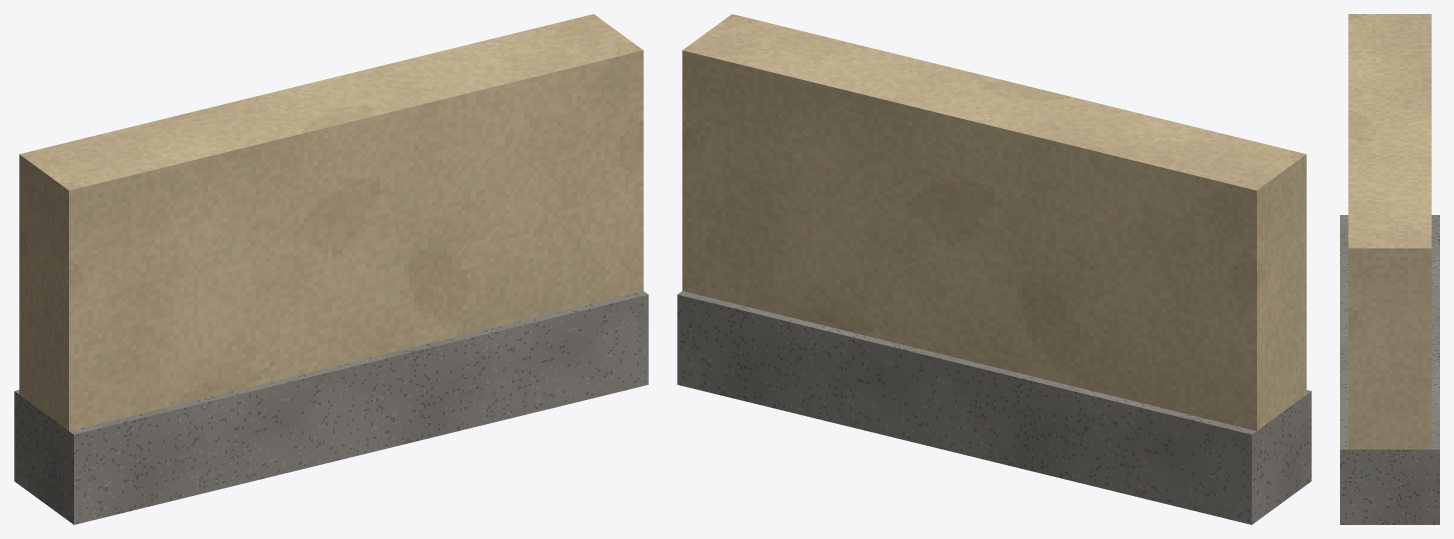
The model's file is wall-low-2m.glb.
3 views of the same model, side by side, from view 1: azimuth 30°, elevation 25°; view 2: azimuth 150°, elevation 25°; view 3: azimuth 270°, elevation 25° (orthographic). The views are drawn at different scales.
Visible parts, largest first — view 1: wall-low-2m; view 2: wall-low-2m; view 3: wall-low-2m.
Boxes of the visible parts, x1,y1,x2,y2 form: wall-low-2m: (14, 14, 648, 524); wall-low-2m: (677, 14, 1311, 524); wall-low-2m: (1340, 14, 1439, 524).
Bounding box in the file's own units: 2 × 1.1 × 0.36.
Materials: 1 (1 with a texture image).
